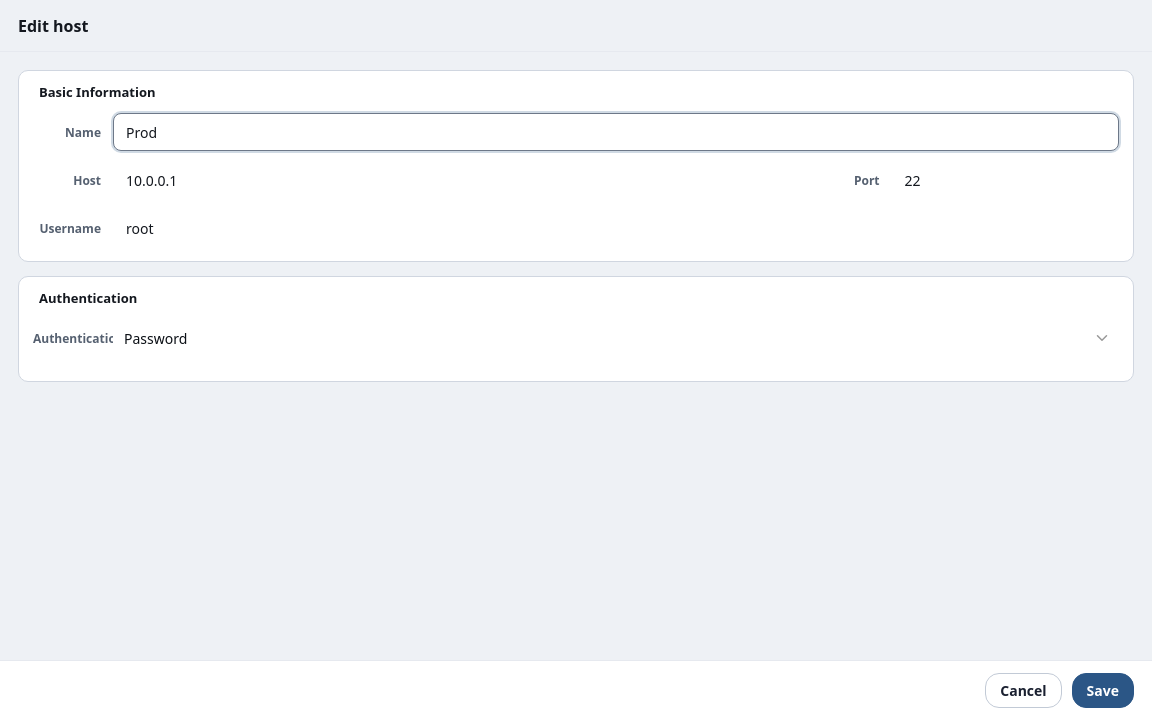
Test: HostForm edit mode › surfaces a rejected save as an inline error and does not close the form
The width and height of the screenshot is (1152, 720).
Click the button "Save". click: (1103, 690)
box: [1072,673,1134,708]
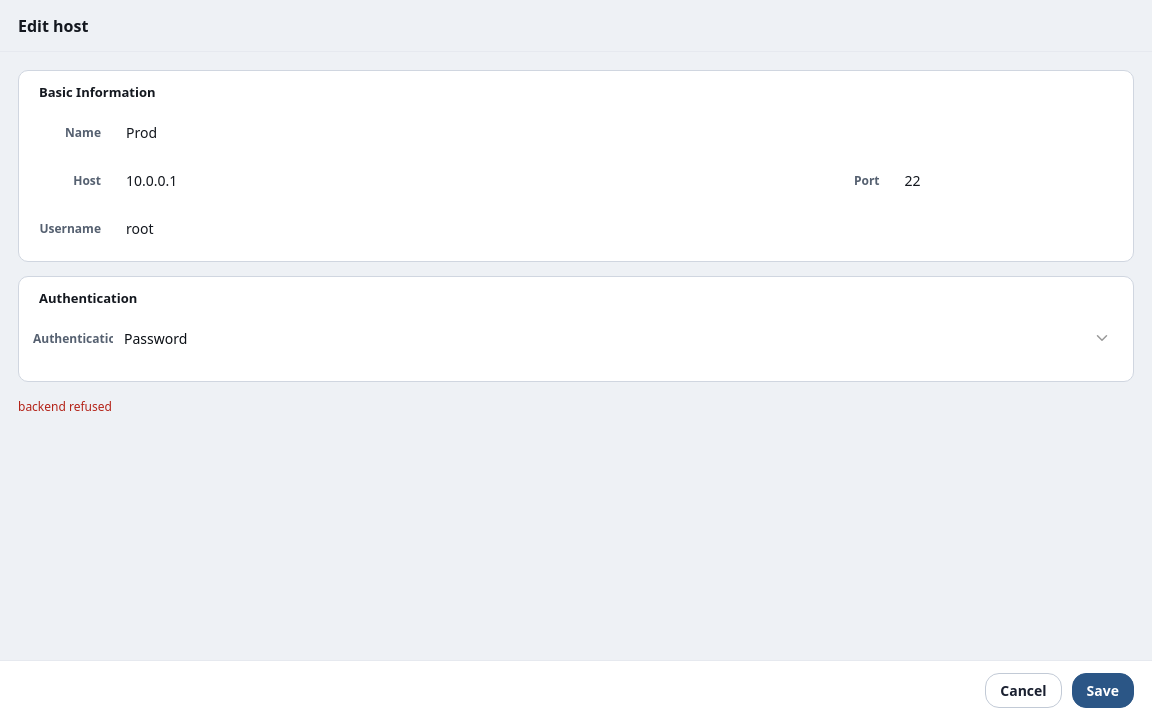
Expected: the message reads "backend refused", [18,398,112,415]
